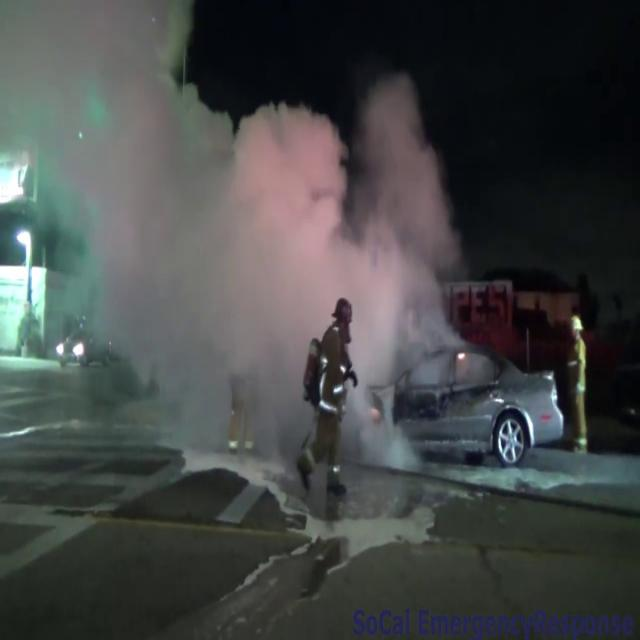Smoke: (69, 38, 479, 478)
